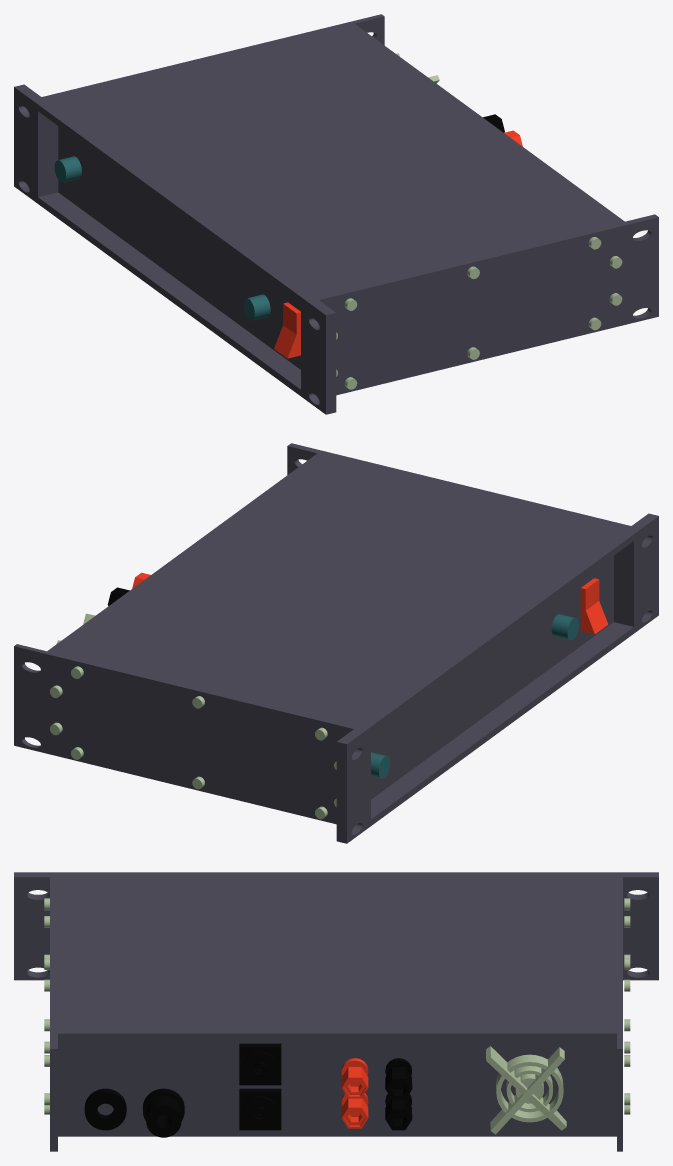
File: AmplificadorParaUnityMejor.fbx
The picture shows the model from 3 angles, top to bottom: view 1: azimuth 30°, elevation 25°; view 2: azimuth 150°, elevation 25°; view 3: azimuth 270°, elevation 25°; orthographic projection. The views are drawn at different scales.
Parts seen in each view (by area): view 1: Amplificador_mejor; view 2: Amplificador_mejor; view 3: Amplificador_mejor.
Part boxes in pixels (<box>): Amplificador_mejor: <box>14,14,658,414</box>; Amplificador_mejor: <box>14,443,658,843</box>; Amplificador_mejor: <box>14,872,658,1151</box>.
Size of the model in its own units: 35.84 by 9.5 by 54.
Materials: 1 (1 with a texture image).
